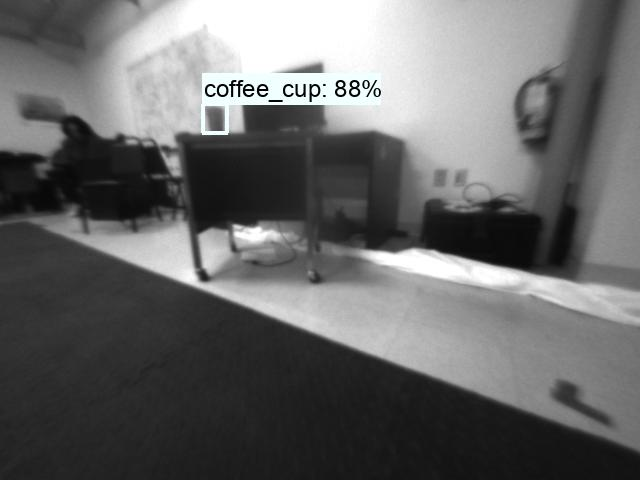coffee_cup: (202, 104, 227, 132)
